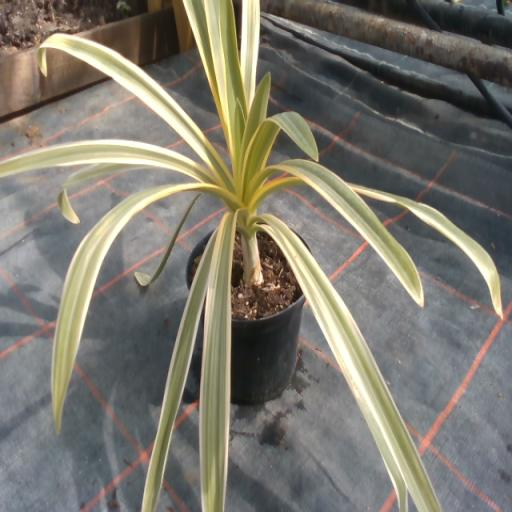Agapanthus-praecox: (259, 215, 440, 511), (52, 182, 242, 432), (38, 35, 234, 190), (263, 160, 422, 304), (346, 182, 502, 318), (142, 242, 212, 511), (200, 213, 236, 511), (0, 141, 213, 183), (134, 194, 201, 286), (183, 0, 226, 133), (244, 112, 318, 183), (58, 165, 143, 223), (205, 0, 232, 147), (220, 0, 247, 122), (242, 73, 269, 166), (240, 0, 259, 106), (257, 177, 294, 201), (234, 100, 244, 171), (234, 36, 239, 80)
